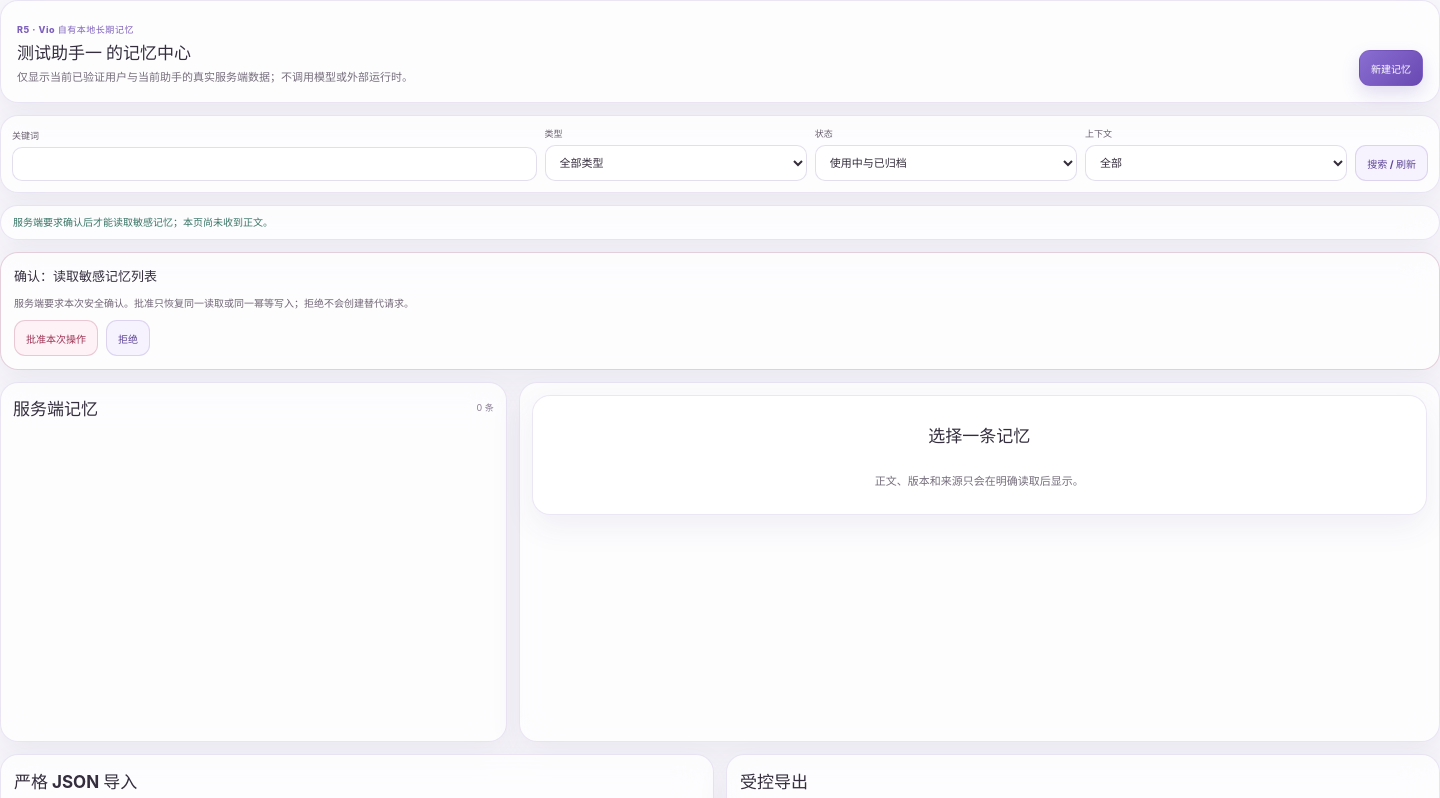
Test: R5 MemoryManager › does not reveal a sensitive list before confirmed GET retry
Expected: the text "服务端要求确认后才能读取敏感记忆；本页尚未收到正文。" is shown, [13,216,273,228]
Click the button "批准本次操作" at (56,338), box [14,320,98,356]
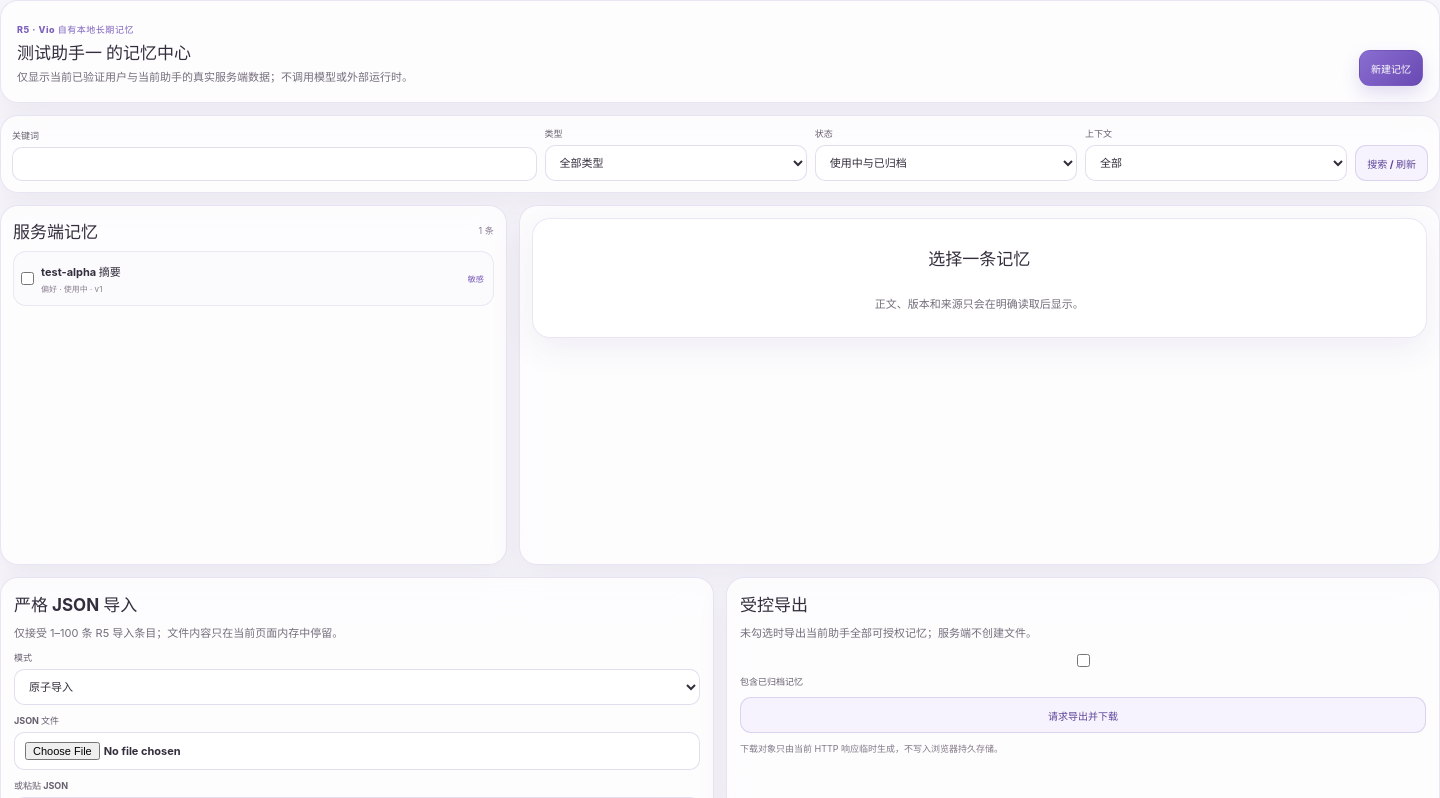
Now the text "test-alpha 摘要" is shown, box [41,263,121,279]
